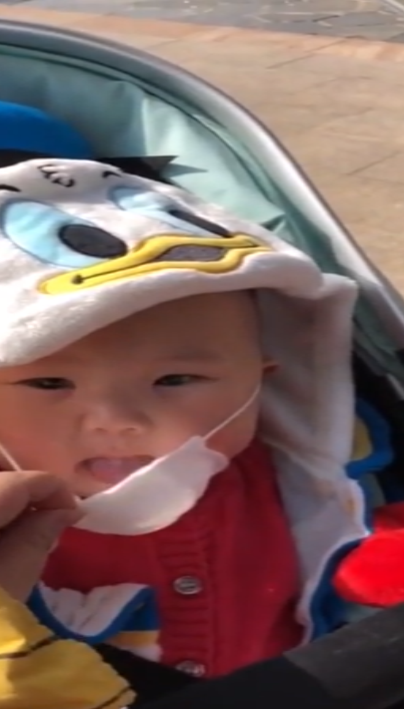mask_weared_incorrect: (1, 272, 290, 539)
